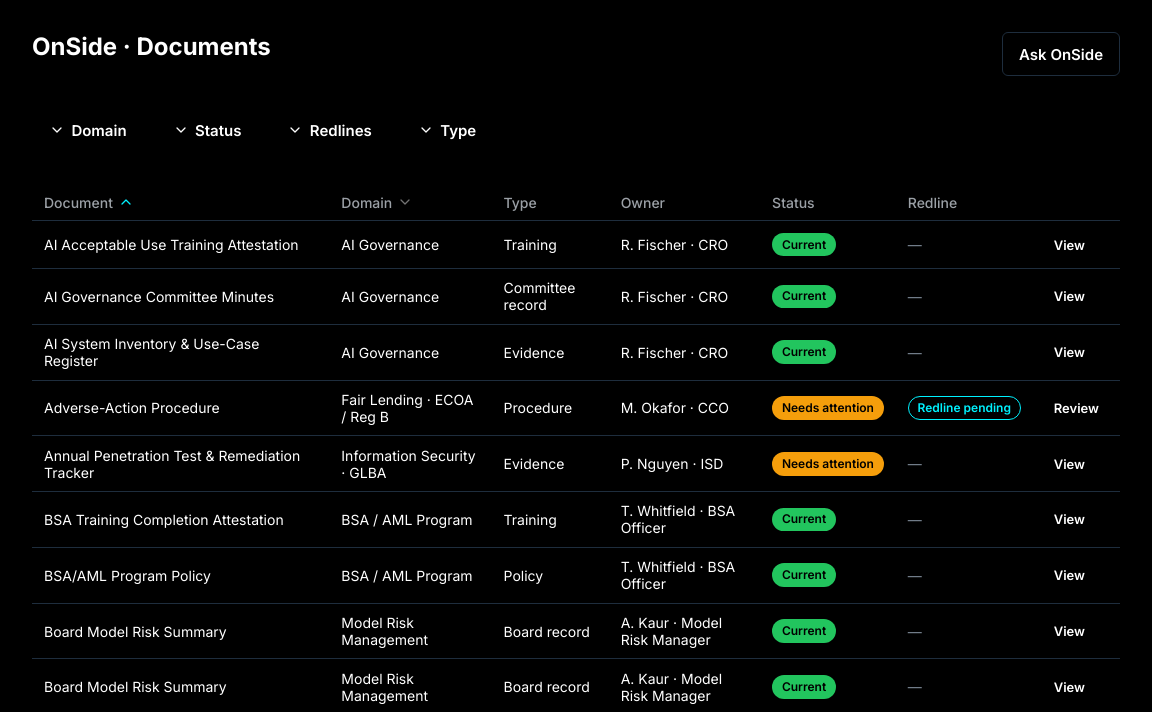
Test: OnSide · Documents — Type FilterGroup (D5, L8 AC 1) › selecting the "Policy" type option filters the document library table to Policy-type rows only
The width and height of the screenshot is (1152, 712).
What coordinates should you click on to do the following:
click the button "Type"
I would click on:
 (447, 130)
Its box is [401,108,493,152].
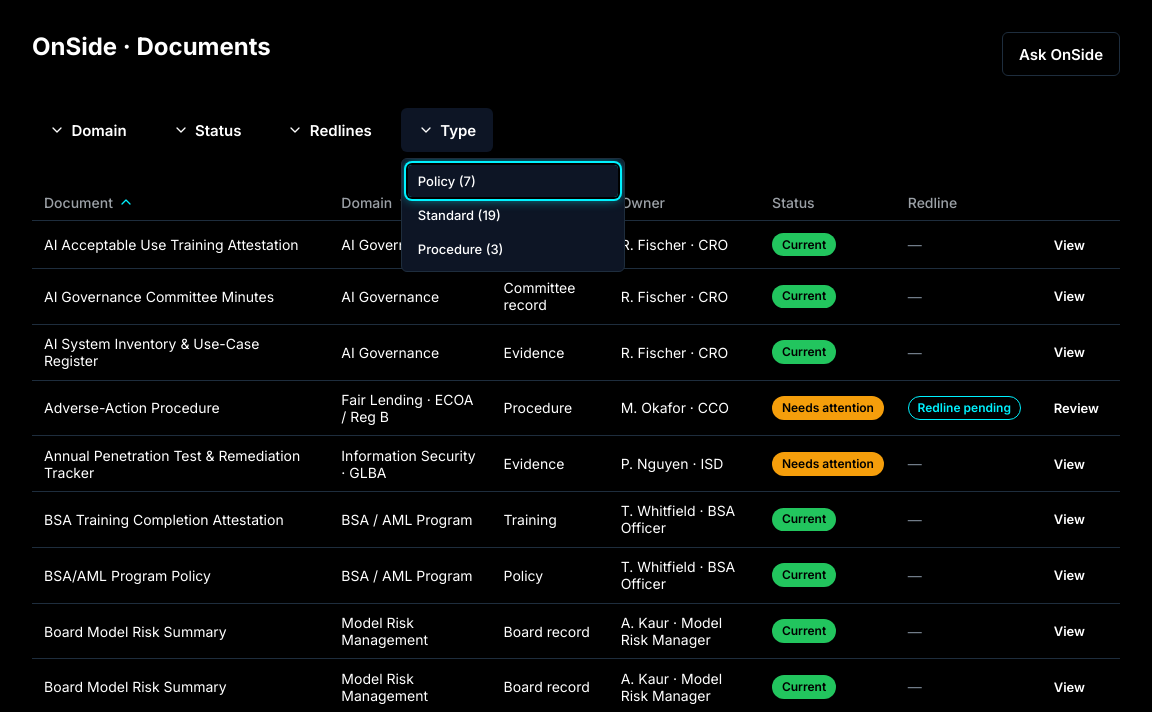
What coordinates should you click on to do the following:
click the button "Policy (7)"
I would click on:
 (513, 181)
Its box is [408,165,618,197].
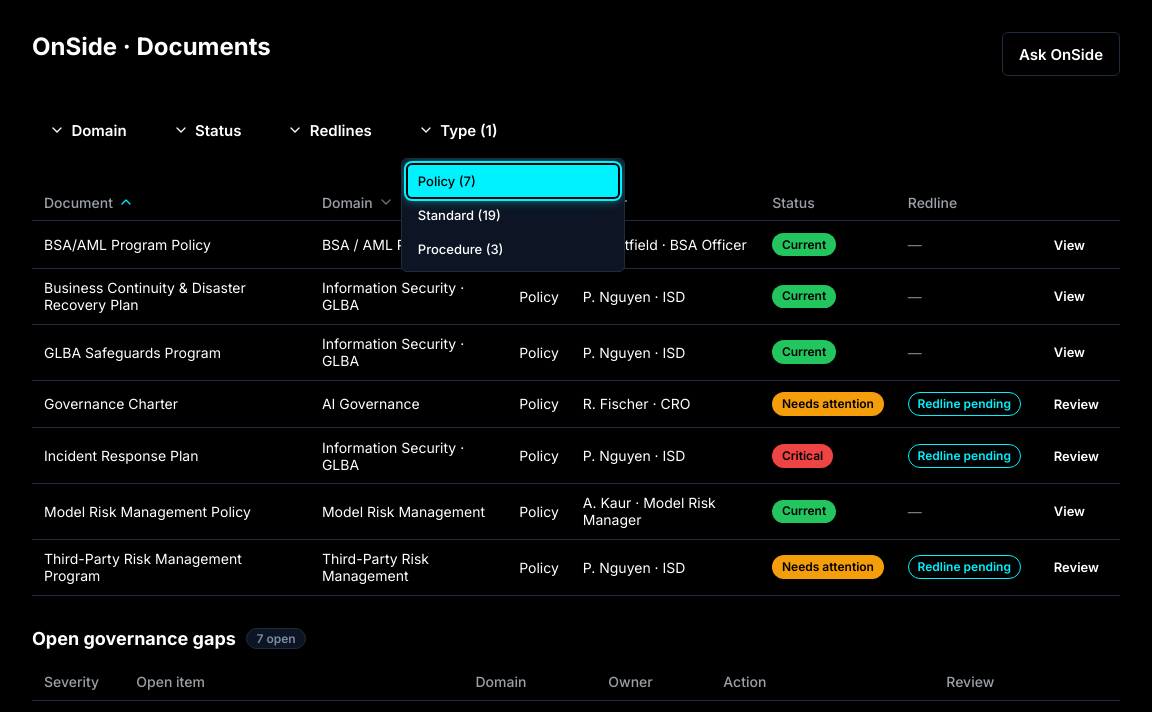
expect the text "Committee record" is gone: met
expect the text "Board record" is gone: met
expect the text "Training" is gone: met
